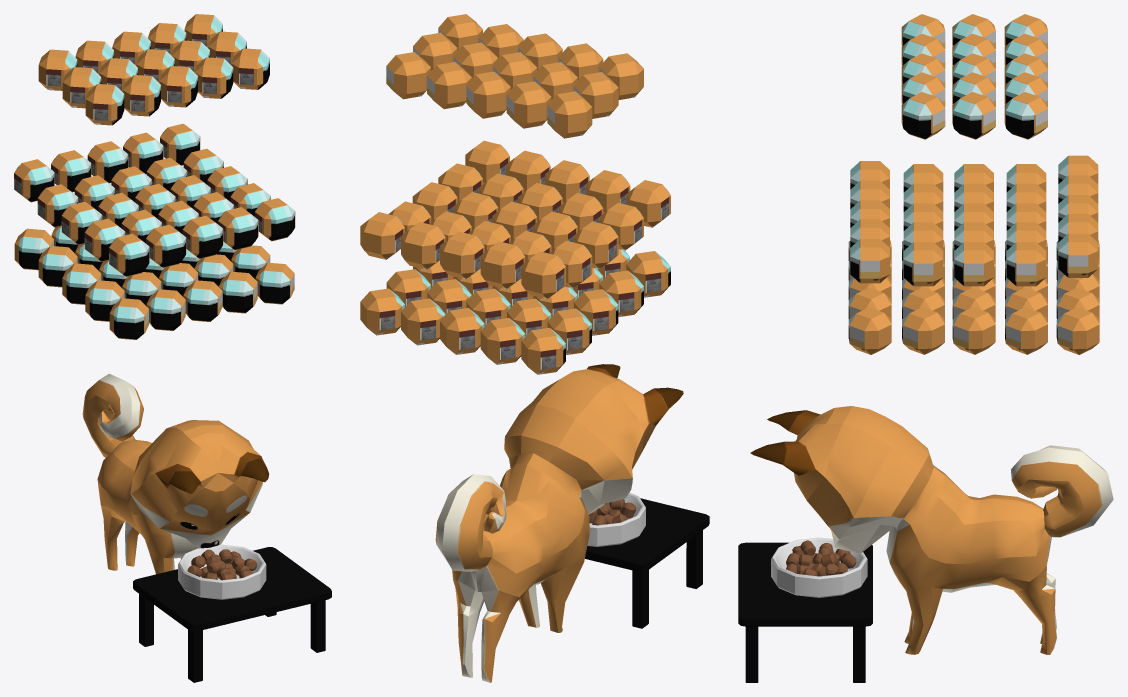
File: fullBowl_frame34.obj
3 renders of one model, left to right at view 1: azimuth 30°, elevation 25°; view 2: azimuth 150°, elevation 25°; view 3: azimuth 270°, elevation 25°, orthographic. The views are drawn at different scales.
Parts seen in each view (by area): view 1: newRigging1:BodzL1, Tisch:Tisch:pCube1, FressnapfFull:bulletRigidSetSolved1, FressnapfFull:pCube45, FressnapfFull:pCube46, FressnapfFull:pCube57, FressnapfFull:pCube48, FressnapfFull:pCube50, FressnapfFull:pCube43, FressnapfFull:pCube49, FressnapfFull:pCube42, FressnapfFull:pCube36 (+44 smaller); view 2: newRigging1:BodzL1, Tisch:Tisch:pCube1, FressnapfFull:pCube39, FressnapfFull:pCube51, FressnapfFull:pCube64, FressnapfFull:pCube54, FressnapfFull:pCube37, FressnapfFull:pCube61, FressnapfFull:pCube55, FressnapfFull:pCube53, FressnapfFull:pCube41, FressnapfFull:pCube38 (+45 smaller); view 3: newRigging1:BodzL1, Tisch:Tisch:pCube1, FressnapfFull:bulletRigidSetSolved1, FressnapfFull:pCube36, FressnapfFull:pCube4, FressnapfFull:pCube41, FressnapfFull:pCube50, FressnapfFull:pCube55, FressnapfFull:pCube31, FressnapfFull:pCube20, FressnapfFull:pCube10, FressnapfFull:pCube15 (+42 smaller).
Part boxes in pixels (x1,y1,x2,y2): newRigging1:BodzL1: (82,373,268,574); Tisch:Tisch:pCube1: (133,547,331,682); FressnapfFull:bulletRigidSetSolved1: (178,544,266,599); FressnapfFull:pCube45: (85,84,124,125); FressnapfFull:pCube46: (109,298,148,339); FressnapfFull:pCube57: (109,233,149,276); FressnapfFull:pCube48: (183,280,222,321); FressnapfFull:pCube50: (255,262,294,304); FressnapfFull:pCube43: (159,66,197,107); FressnapfFull:pCube49: (146,289,185,330); FressnapfFull:pCube42: (122,75,160,116); FressnapfFull:pCube36: (231,48,269,89); newRigging1:BodzL1: (435,364,683,682); Tisch:Tisch:pCube1: (585,498,709,628); FressnapfFull:pCube39: (547,91,592,138); FressnapfFull:pCube51: (521,327,565,374); FressnapfFull:pCube64: (521,251,565,298); FressnapfFull:pCube54: (480,318,525,364); FressnapfFull:pCube37: (506,81,551,128); FressnapfFull:pCube61: (480,241,525,289); FressnapfFull:pCube55: (360,288,404,335); FressnapfFull:pCube53: (440,308,484,354); FressnapfFull:pCube41: (386,52,430,99); FressnapfFull:pCube38: (466,71,510,118); newRigging1:BodzL1: (750,406,1113,654); Tisch:Tisch:pCube1: (738,542,872,682); FressnapfFull:bulletRigidSetSolved1: (771,537,867,597); FressnapfFull:pCube36: (901,92,945,139); FressnapfFull:pCube4: (952,307,995,354); FressnapfFull:pCube41: (1004,92,1047,139); FressnapfFull:pCube50: (848,307,891,354); FressnapfFull:pCube55: (1056,307,1099,354); FressnapfFull:pCube31: (952,92,995,139); FressnapfFull:pCube20: (1006,242,1046,286); FressnapfFull:pCube10: (902,307,944,354); FressnapfFull:pCube15: (1005,307,1047,354).
Bounding box in the file's own units: 5.73 × 16.34 × 9.44.
4 materials, 3 textured.
